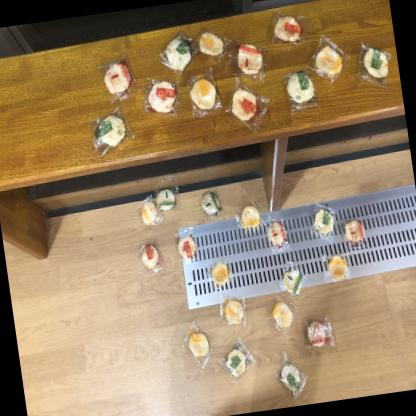green_setoshio: (86, 100, 136, 157), (157, 26, 198, 72), (356, 40, 394, 88), (272, 356, 310, 401), (281, 63, 318, 109), (218, 338, 256, 382), (306, 199, 338, 245), (274, 260, 309, 298), (195, 186, 223, 221), (154, 184, 180, 212)
red_setoshio: (222, 80, 266, 134), (139, 72, 184, 118), (265, 3, 309, 50), (99, 53, 136, 98), (230, 38, 268, 81), (300, 311, 336, 353), (338, 212, 370, 249), (170, 226, 202, 262), (133, 238, 162, 276), (262, 218, 290, 250)
yellow_setoshio: (182, 71, 224, 117), (308, 37, 348, 83), (262, 293, 300, 337), (180, 320, 214, 368), (192, 21, 228, 63), (230, 196, 265, 235), (218, 290, 250, 330), (320, 249, 353, 284), (132, 193, 160, 230), (202, 256, 234, 288)
